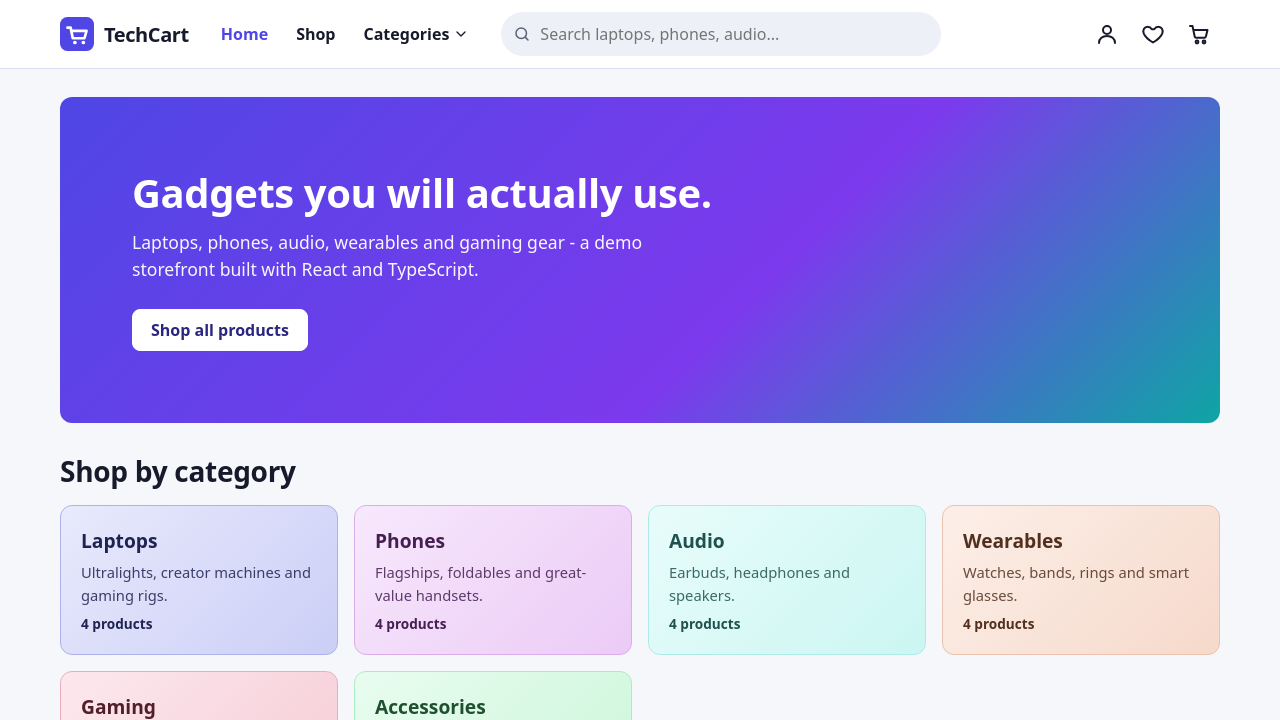
it: SearchBar › suggests matching products as you type
The image size is (1280, 720).
Type "zenith" into the dropdown named "Search products" at coordinates (721, 34), box [501,12,941,56]
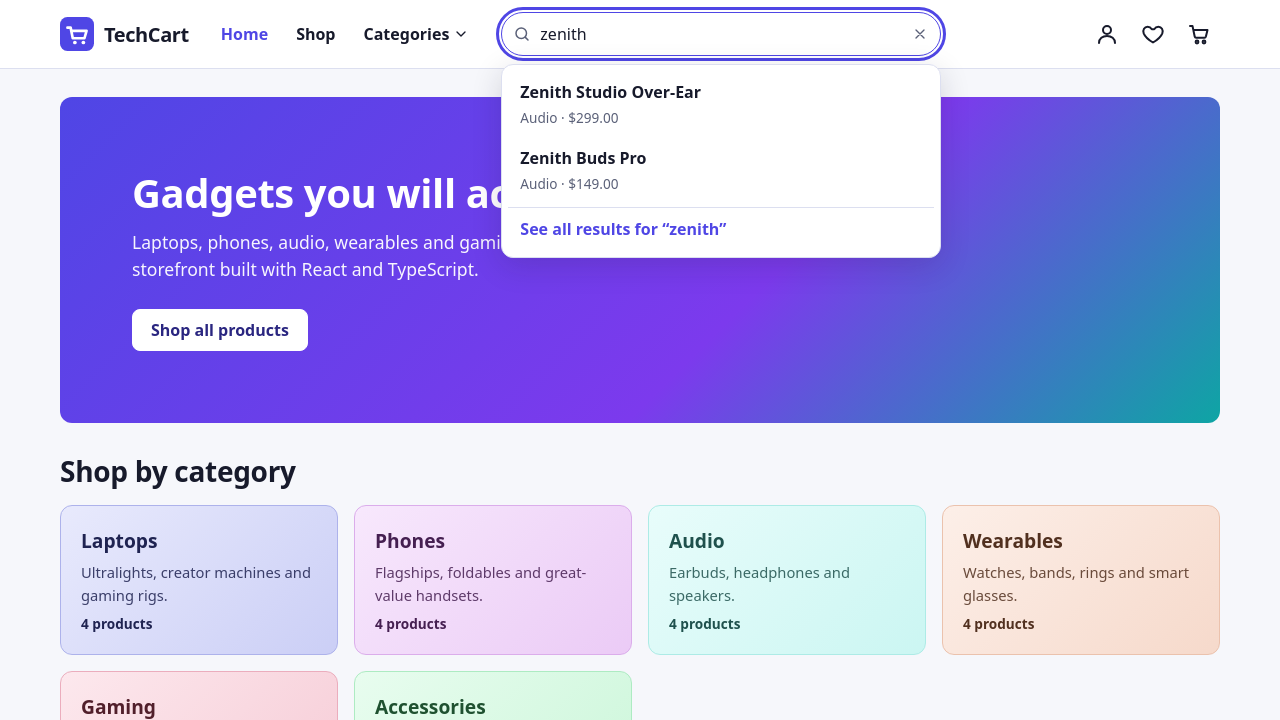
Expected: the dropdown named "Search products" is expanded, [501,12,941,56]
Expected: the option "Zenith Buds Pro Audio · $149.00" is shown, [520,147,646,193]
Expected: the option "Zenith Studio Over-Ear Audio · $299.00" is shown, [520,81,701,127]
